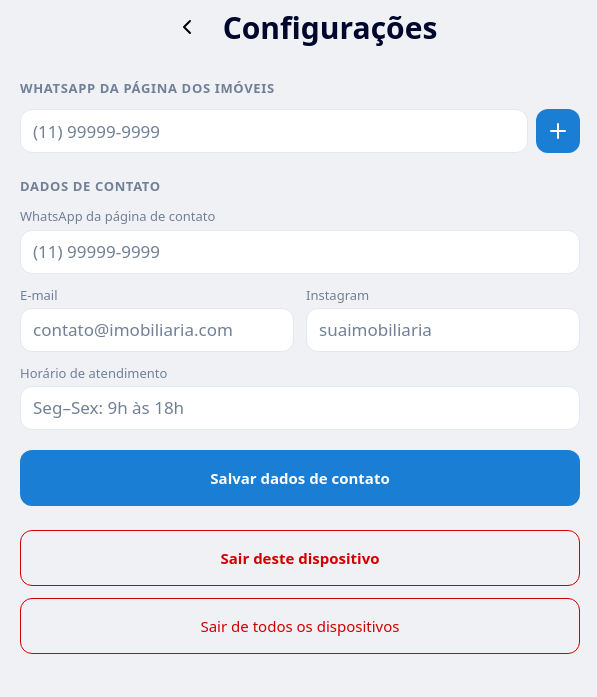
it: Settings › rejects an invalid contact e-mail and shows the schema message
Type "not-an-email" into the field with placeholder "contato@imobiliaria.com" at (157, 330), box top-left (20, 308), bottom-right (294, 352)
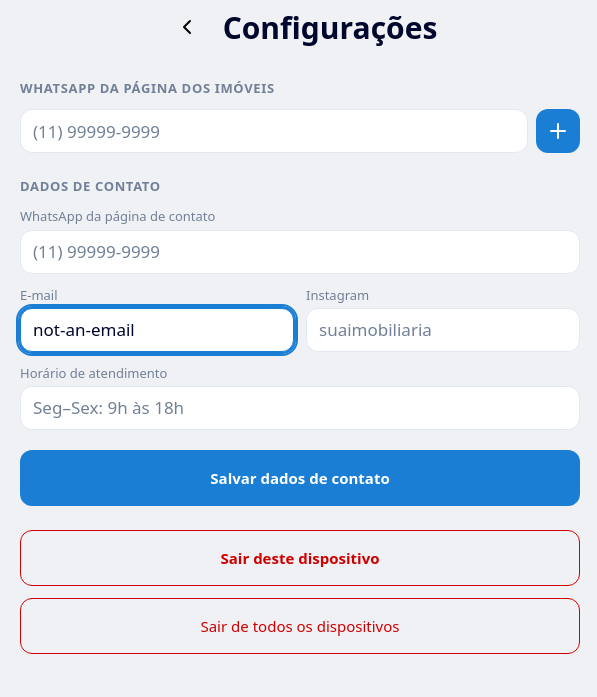
Click the button "Salvar dados de contato" at (300, 478), box top-left (20, 450), bottom-right (580, 506)
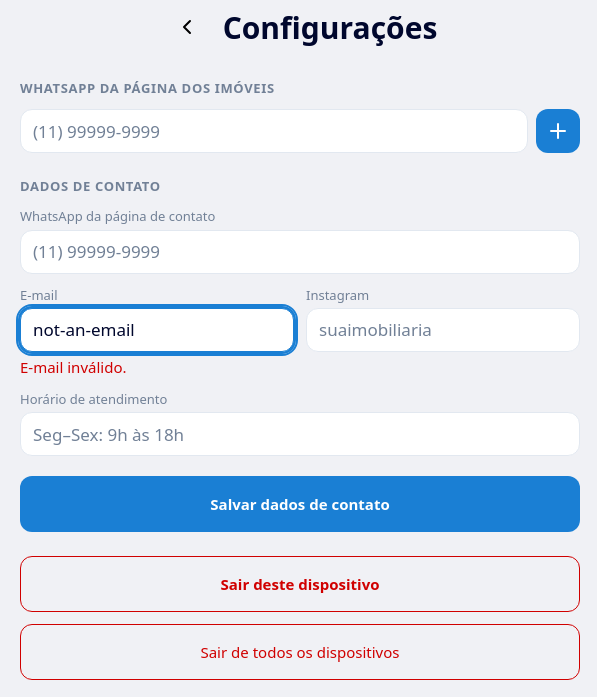
Expected: the text "E-mail inválido." is shown, top-left (20, 357), bottom-right (126, 377)
